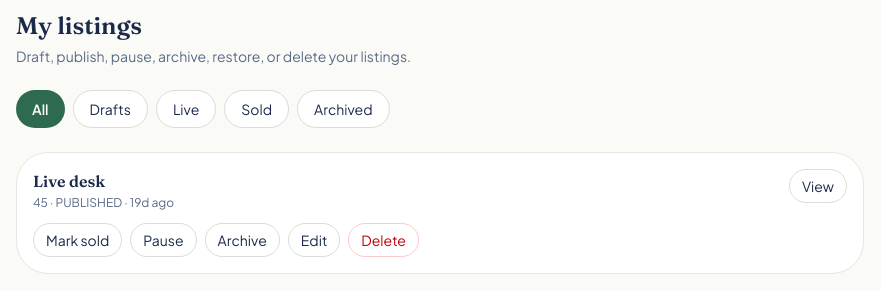
Test case: MyListings › loads the owner's listings and filters by status
Expected: the text "Live desk" is shown, [33, 171, 105, 191]
Click the button "Archived": (343, 109) [297, 90, 390, 128]
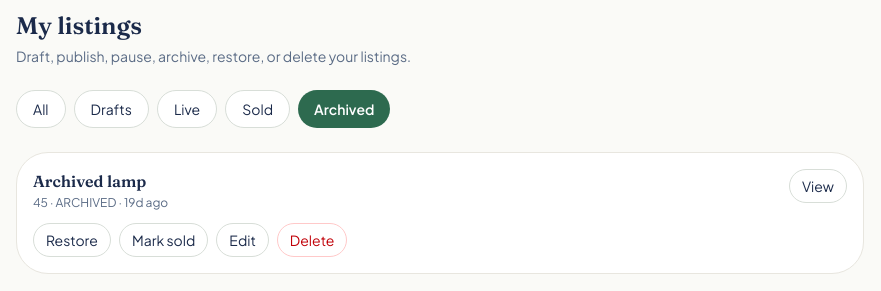
Now the text "Archived lamp" is shown, box [33, 171, 146, 191]
